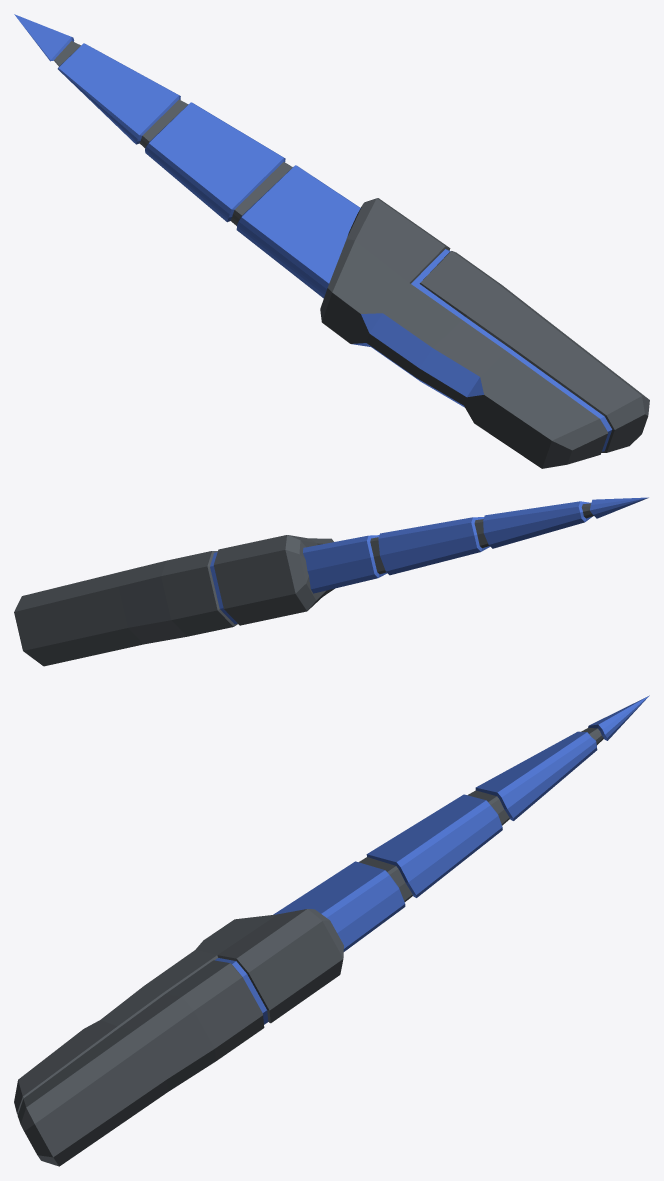
The model's file is Fighter_03_Right_Wing_Blue.fbx.
3 renders of one model, top to bottom at view 1: azimuth 30°, elevation 25°; view 2: azimuth 210°, elevation 25°; view 3: azimuth 270°, elevation 25°, orthographic. The views are drawn at different scales.
Parts seen in each view (by area): view 1: Fighter_03_Right_Wing_Blue; view 2: Fighter_03_Right_Wing_Blue; view 3: Fighter_03_Right_Wing_Blue.
Part boxes in pixels (x1,y1,x2,y2): Fighter_03_Right_Wing_Blue: (14, 14, 649, 468); Fighter_03_Right_Wing_Blue: (14, 497, 648, 666); Fighter_03_Right_Wing_Blue: (14, 695, 649, 1166).
Bounding box in the file's own units: 590 × 501 × 932.
1 material, 1 textured.
